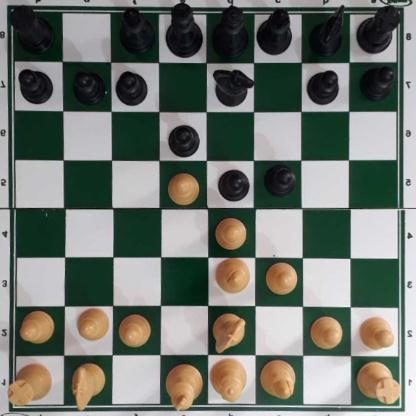black-bishop: (119, 4, 156, 55), (257, 7, 293, 54)
black-king: (166, 1, 204, 61)
black-knight: (310, 3, 345, 56), (215, 67, 252, 106)
black-pawn: (19, 67, 54, 104), (167, 121, 201, 157), (360, 65, 394, 101), (309, 67, 341, 104), (73, 69, 105, 104), (264, 163, 297, 196), (116, 71, 148, 105), (218, 168, 250, 200)
black-queen: (211, 5, 249, 56)
black-rook: (357, 4, 402, 51), (13, 6, 56, 53)
white-bishop: (262, 358, 297, 400), (216, 257, 251, 293)
white-king: (167, 360, 203, 410)
white-knight: (71, 360, 105, 411), (212, 311, 246, 353)
white-pawn: (358, 315, 397, 349), (19, 310, 55, 344), (310, 315, 344, 349), (167, 171, 201, 205), (77, 307, 110, 342), (119, 313, 153, 346), (266, 261, 299, 294), (216, 217, 248, 251)
white-queen: (211, 357, 248, 403)
white-rook: (7, 362, 53, 406), (357, 360, 402, 403)
